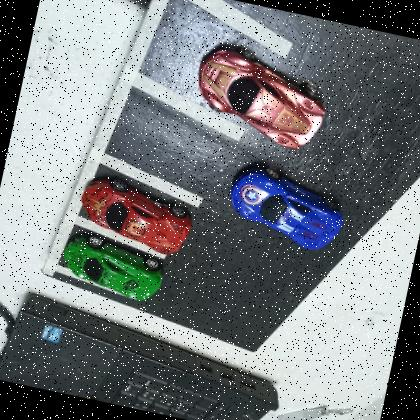Car: (186, 40, 336, 156), (219, 160, 353, 258), (74, 173, 200, 260), (56, 229, 170, 308)
